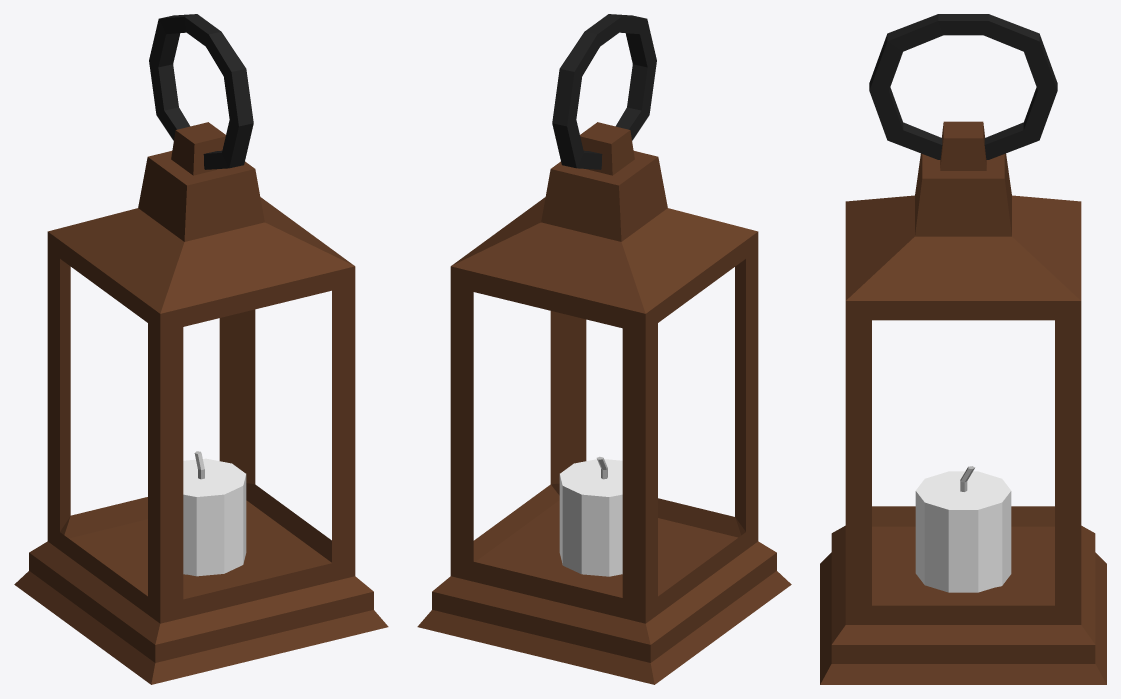
The model's file is lamp02.gltf.
3 views of the same model, side by side, from view 1: azimuth 30°, elevation 25°; view 2: azimuth 150°, elevation 25°; view 3: azimuth 270°, elevation 25° (orthographic). The views are drawn at different scales.
Visible parts, largest first — view 1: Cube; view 2: Cube; view 3: Cube.
Part boxes in pixels (x1,y1,x2,y2): Cube: [14, 14, 388, 684]; Cube: [417, 14, 791, 684]; Cube: [820, 14, 1106, 684].
Bounding box in the file's own units: 0.1568 × 0.3668 × 0.1568.
1 material, 1 textured.
